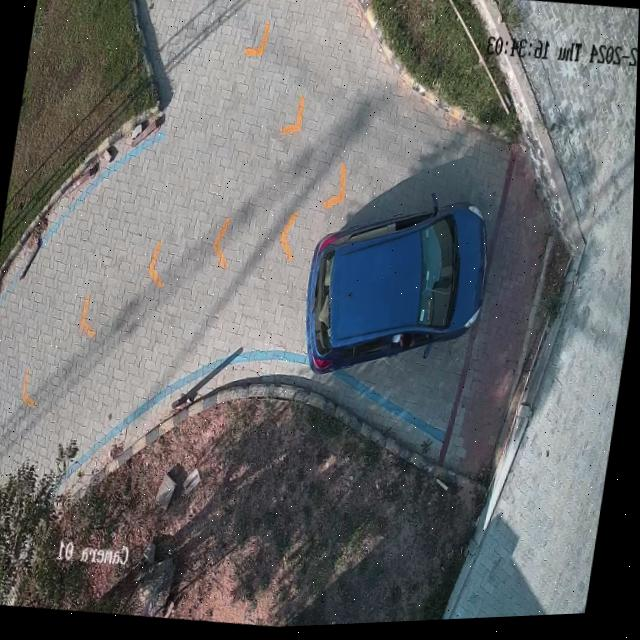car: (307, 198, 488, 376)
